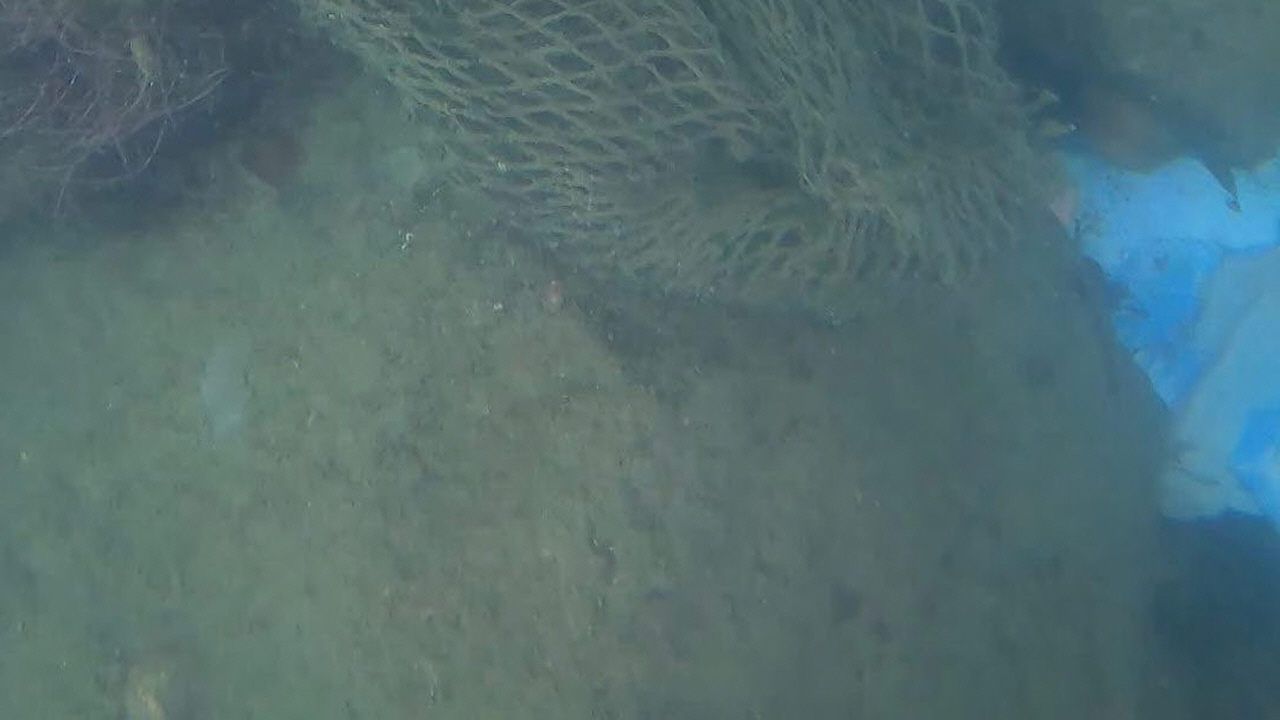fish net: (294, 0, 1054, 306)
